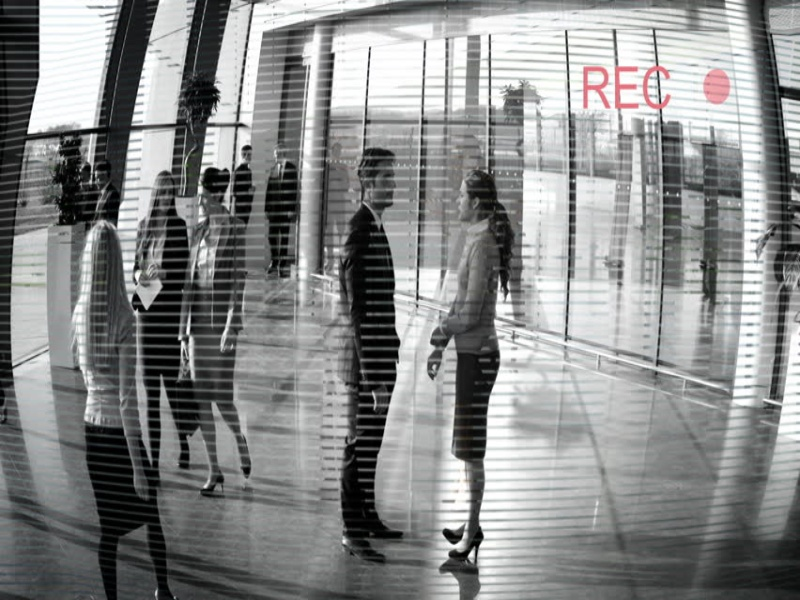person: (54, 219, 190, 600), (426, 168, 528, 574), (332, 149, 412, 579), (126, 167, 204, 492), (179, 161, 252, 498), (263, 144, 299, 282)
